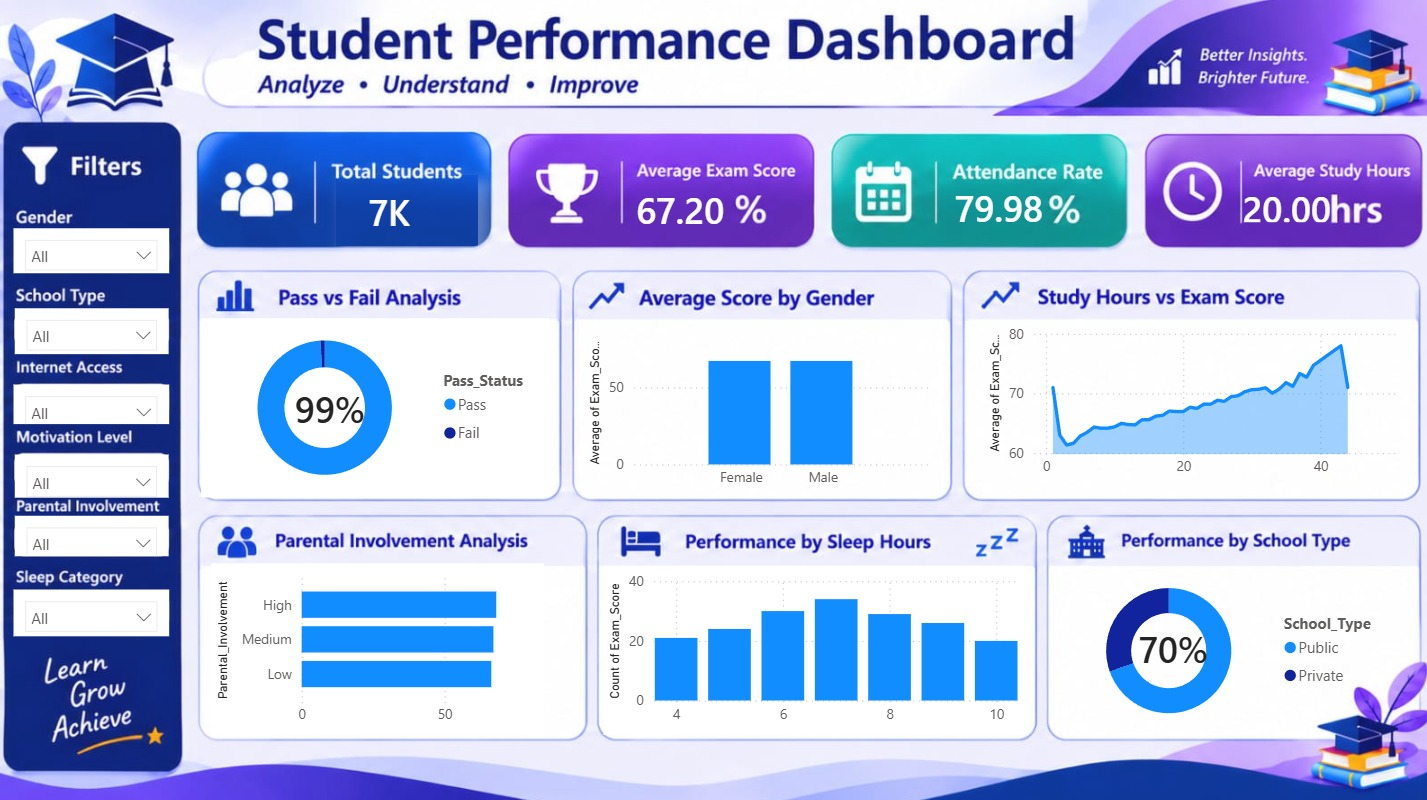

The dashboard page shown, as its layout file describes it:
{"tool":"powerbi","page":{"name":"Page 1","canvas":[1280,720],"ordinal":0},"visuals":[{"type":"cardVisual","fields":{"Data":["DA_Project.Total Students1"]},"box":[302.5,157.5,126.7,63.3],"z":0},{"type":"cardVisual","fields":{"Data":["DA_Project.Average Exam Score"]},"box":[540,135,140,105],"z":1000},{"type":"cardVisual","fields":{"Data":["DA_Project.Attendance Rate"]},"box":[823.8,146.2,148.8,78.8],"z":2000},{"type":"cardVisual","fields":{"Data":["DA_Project.Avg Study Hours"]},"box":[1079,155,138,62],"z":3000},{"type":"clusteredColumnChart","fields":{"Category":["DA_Project.Gender"],"Y":["Avg(DA_Project.Exam_Score)"]},"box":[522.1,291.9,312.8,153.5],"z":4000},{"type":"clusteredBarChart","fields":{"Category":["DA_Project.Parental_Involvement"],"Y":["Avg(DA_Project.Exam_Score)"]},"box":[191,503,296,153],"z":5000},{"type":"clusteredColumnChart","fields":{"Category":["DA_Project.Sleep_Hours"],"Y":["Count(student_performance_db.Exam_Score)"]},"box":[539.5,505.8,373.3,150],"z":6000},{"type":"donutChart","fields":{"Category":["DA_Project.School_Type"],"Y":["Sum(DA_Project.Exam_Score)"]},"box":[935.5,506.4,309.1,149.1],"z":7000},{"type":"slicer","fields":{"Values":["DA_Project.Gender"]},"box":[15,205.8,138.3,40],"z":8000},{"type":"slicer","fields":{"Values":["DA_Project.School_Type"]},"box":[16.7,276.7,136.7,40.8],"z":9000},{"type":"slicer","fields":{"Values":["DA_Project.Internet_Access"]},"box":[15,344.2,138.3,35],"z":10000},{"type":"slicer","fields":{"Values":["DA_Project.Motivation_Level"]},"box":[16.7,406.7,136.7,38.3],"z":11000},{"type":"slicer","fields":{"Values":["DA_Project.Parental_Involvement"]},"box":[16.7,460.8,136.7,35.8],"z":12000},{"type":"slicer","fields":{"Values":["DA_Project.Sleep_Category"]},"box":[15,526.7,138.3,41.7],"z":13000},{"type":"areaChart","fields":{"Category":["student_performance_db.Hours_Studied"],"Y":["Avg(student_performance_db.Exam_Score)"]},"box":[877.9,286,375.6,150],"z":14000},{"type":"donutChart","fields":{"Category":["student_performance_db.Pass_Status"],"Y":["CountNonNull(student_performance_db.Pass_Status)"]},"box":[182.6,286,309.3,159.3],"z":15000},{"type":"cardVisual","fields":{"Data":["student_performance_db.Pass Rate"]},"box":[236.7,288.3,150,150],"z":16000},{"type":"cardVisual","fields":{"Data":["student_performance_db.Public Percentage"]},"box":[986.4,533.6,126.4,90],"z":17000}]}

Visuals, with their boxes in screenshot pixels (x1, y1, x2, y2), scaled from the page's 1280x720 canvas onto the 1427x800 screenshot:
cardVisual - DA_Project.Total Students1: [x1=337, y1=175, x2=478, y2=245]
cardVisual - DA_Project.Average Exam Score: [x1=602, y1=150, x2=758, y2=267]
cardVisual - DA_Project.Attendance Rate: [x1=918, y1=162, x2=1084, y2=250]
cardVisual - DA_Project.Avg Study Hours: [x1=1203, y1=172, x2=1357, y2=241]
clusteredColumnChart - DA_Project.Gender x Avg(DA_Project.Exam_Score): [x1=582, y1=324, x2=931, y2=495]
clusteredBarChart - DA_Project.Parental_Involvement x Avg(DA_Project.Exam_Score): [x1=213, y1=559, x2=543, y2=729]
clusteredColumnChart - DA_Project.Sleep_Hours x Count(student_performance_db.Exam_Score): [x1=601, y1=562, x2=1018, y2=729]
donutChart - DA_Project.School_Type x Sum(DA_Project.Exam_Score): [x1=1043, y1=563, x2=1388, y2=728]
slicer - DA_Project.Gender: [x1=17, y1=229, x2=171, y2=273]
slicer - DA_Project.School_Type: [x1=19, y1=307, x2=171, y2=353]
slicer - DA_Project.Internet_Access: [x1=17, y1=382, x2=171, y2=421]
slicer - DA_Project.Motivation_Level: [x1=19, y1=452, x2=171, y2=494]
slicer - DA_Project.Parental_Involvement: [x1=19, y1=512, x2=171, y2=552]
slicer - DA_Project.Sleep_Category: [x1=17, y1=585, x2=171, y2=632]
areaChart - student_performance_db.Hours_Studied x Avg(student_performance_db.Exam_Score): [x1=979, y1=318, x2=1397, y2=484]
donutChart - student_performance_db.Pass_Status x CountNonNull(student_performance_db.Pass_Status): [x1=204, y1=318, x2=548, y2=495]
cardVisual - student_performance_db.Pass Rate: [x1=264, y1=320, x2=431, y2=487]
cardVisual - student_performance_db.Public Percentage: [x1=1100, y1=593, x2=1241, y2=693]
